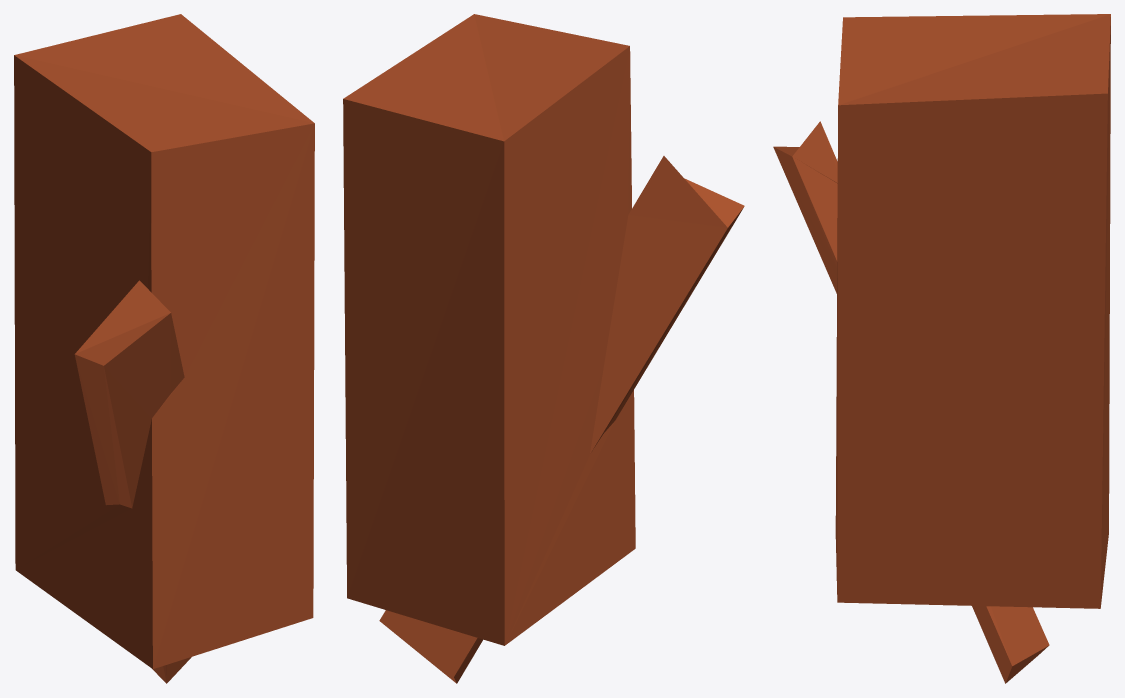
The picture shows the model from 3 angles, left to right: view 1: azimuth 30°, elevation 25°; view 2: azimuth 150°, elevation 25°; view 3: azimuth 270°, elevation 25°; orthographic projection. The views are drawn at different scales.
Visible parts, largest first — view 1: 936_Cube.3783; view 2: 936_Cube.3783; view 3: 936_Cube.3783.
Part boxes in pixels (x1,y1,x2,y2): 936_Cube.3783: [14, 14, 314, 683]; 936_Cube.3783: [343, 14, 744, 683]; 936_Cube.3783: [773, 14, 1110, 683].
Size of the model in its own units: 6.2 by 14.38 by 7.08.
